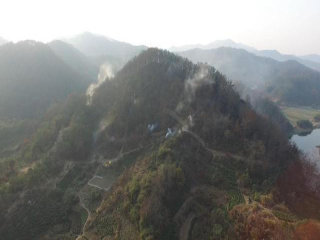smoke: (176, 63, 214, 132), (81, 59, 118, 100)
